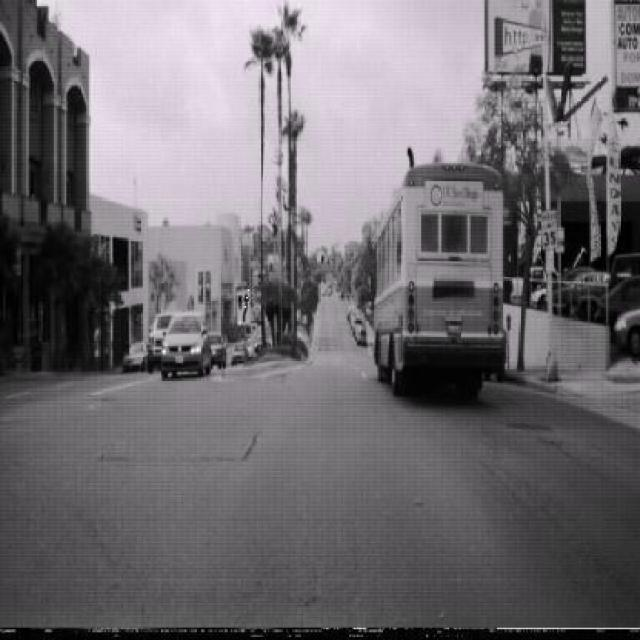keepRight: (236, 286, 252, 327)
